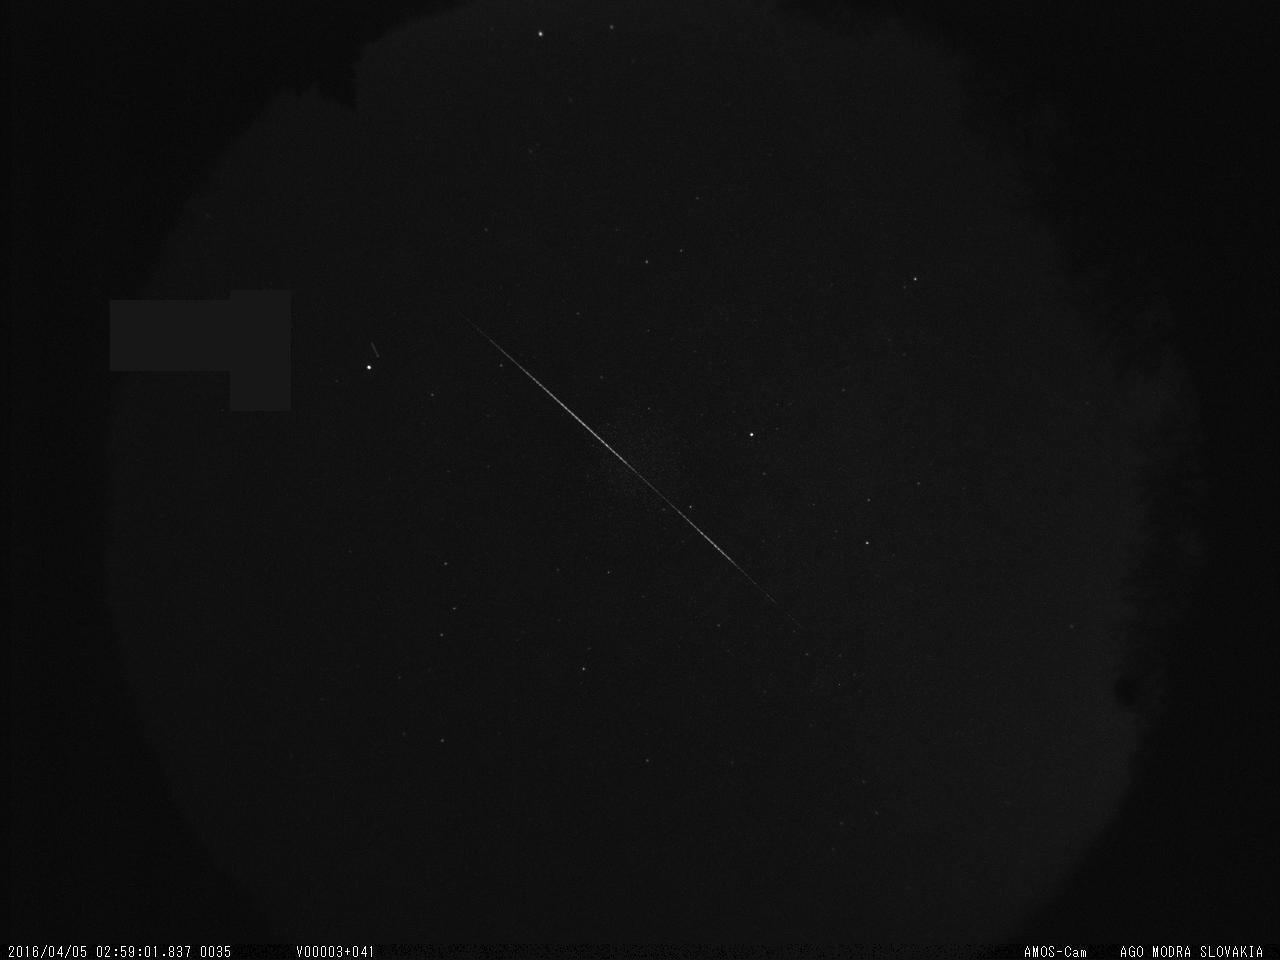Meteor: (453, 305, 791, 621), (363, 329, 388, 367)
